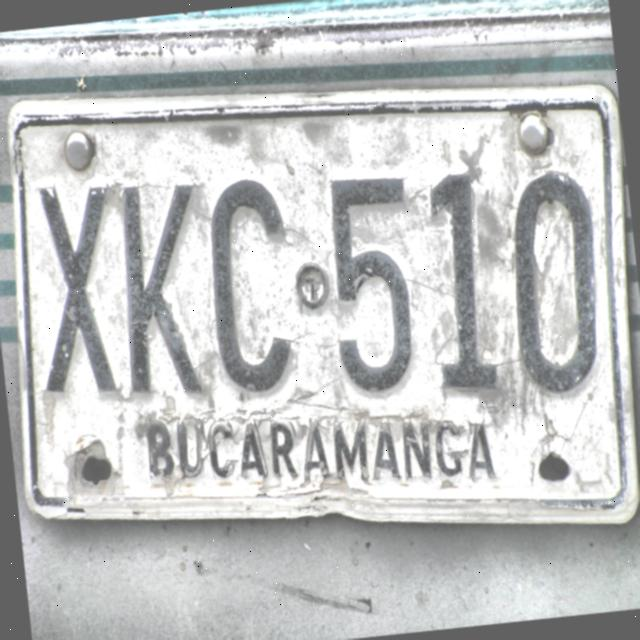0: (501, 171, 601, 402)
1: (423, 170, 510, 399)
5: (325, 171, 420, 402)
C: (208, 172, 303, 403)
K: (119, 177, 214, 400)
X: (29, 175, 121, 402)
